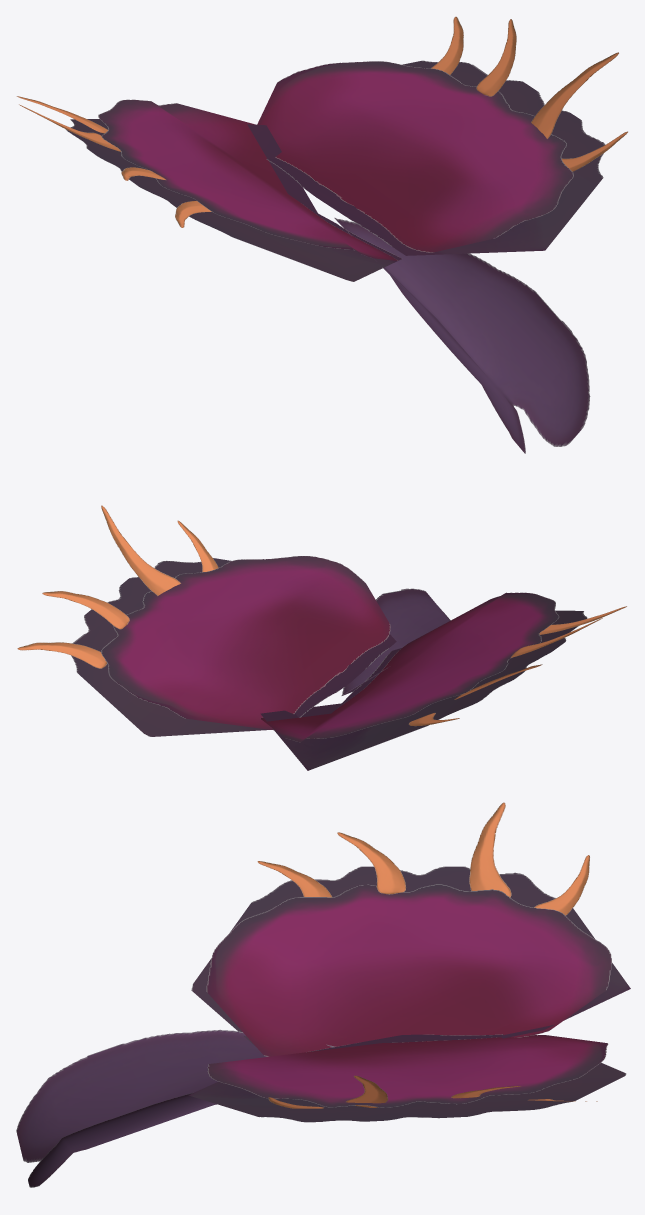
File: PROP_flyTrap_03_block.fbx
The picture shows the model from 3 angles, top to bottom: view 1: azimuth 30°, elevation 25°; view 2: azimuth 150°, elevation 25°; view 3: azimuth 270°, elevation 25°; orthographic projection.
Visible parts, largest first — view 1: PROP_flyTrap_03_block; view 2: PROP_flyTrap_03_block; view 3: PROP_flyTrap_03_block.
Part boxes in pixels (x1,y1,x2,y2): PROP_flyTrap_03_block: (16,16,627,453); PROP_flyTrap_03_block: (17,505,626,770); PROP_flyTrap_03_block: (16,802,630,1187).
Size of the model in its own units: 83.08 by 39.92 by 84.85.
1 material, 1 textured.
